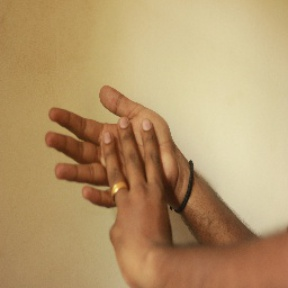M: (41, 79, 191, 229)
